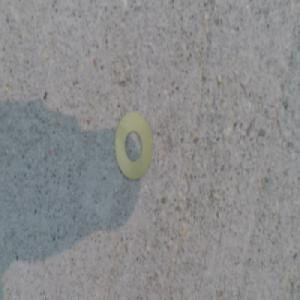Washer: (112, 107, 152, 179)
